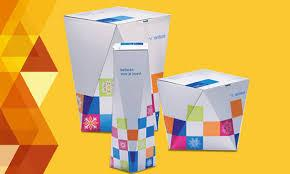Cardboard: (49, 4, 287, 174)
